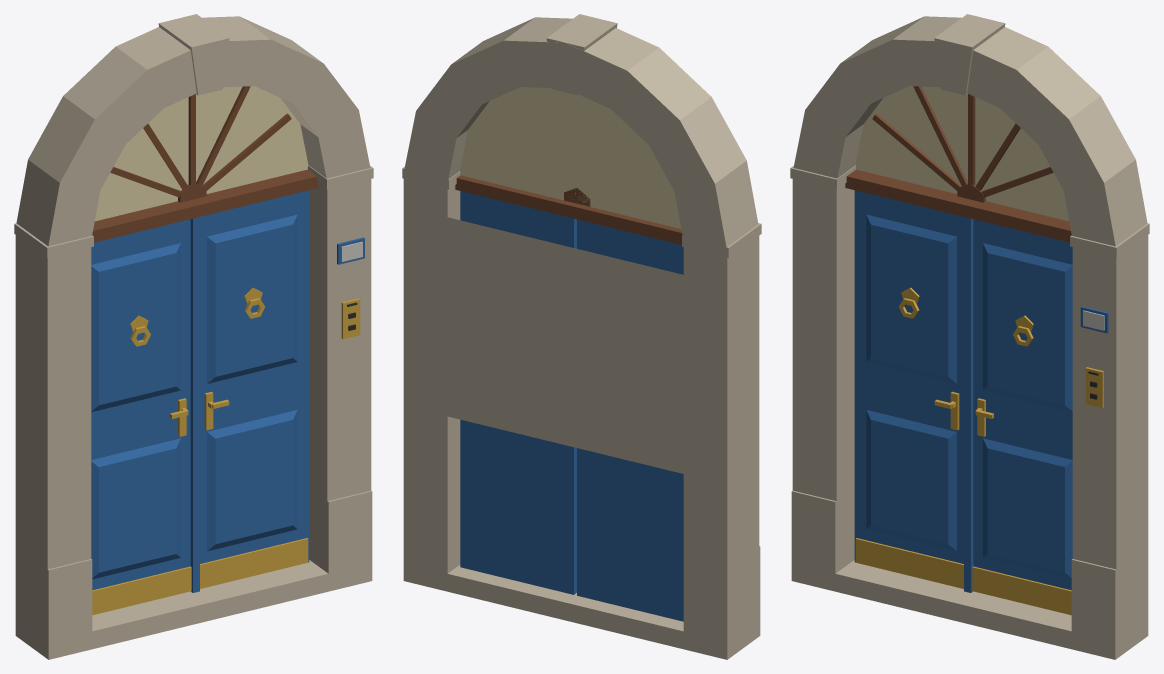
Rendered from kapi_ahsap_3.glb.
3 renders of one model, left to right at view 1: azimuth 30°, elevation 25°; view 2: azimuth 150°, elevation 25°; view 3: azimuth 330°, elevation 25°, orthographic.
Parts seen in each view (by area): view 1: kapi_ahsap_3; view 2: kapi_ahsap_3; view 3: kapi_ahsap_3.
Part boxes in pixels (x1,y1,x2,y2): kapi_ahsap_3: [14, 14, 373, 659]; kapi_ahsap_3: [402, 14, 761, 659]; kapi_ahsap_3: [790, 14, 1149, 659].
Size of the model in its own units: 1.72 by 2.9 by 0.311.
